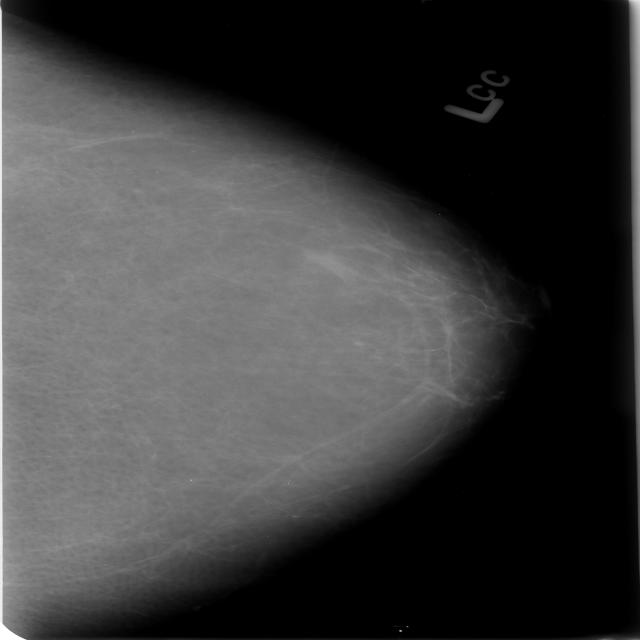normal: (0, 14, 505, 637)
